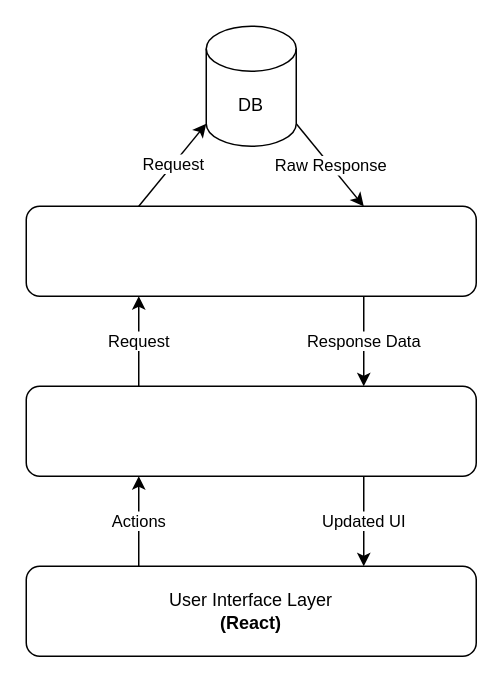
Image size: 503x683. Some labels were removed from this diagram. The shapes that lost their labels are listed below. From the top down, each one's box as (x1, y1, x2, y2) in pixels, then its label:
(25, 205, 476, 296): Core Layer (Repository)
(25, 385, 476, 476): Application Layer (Services, State Management)
